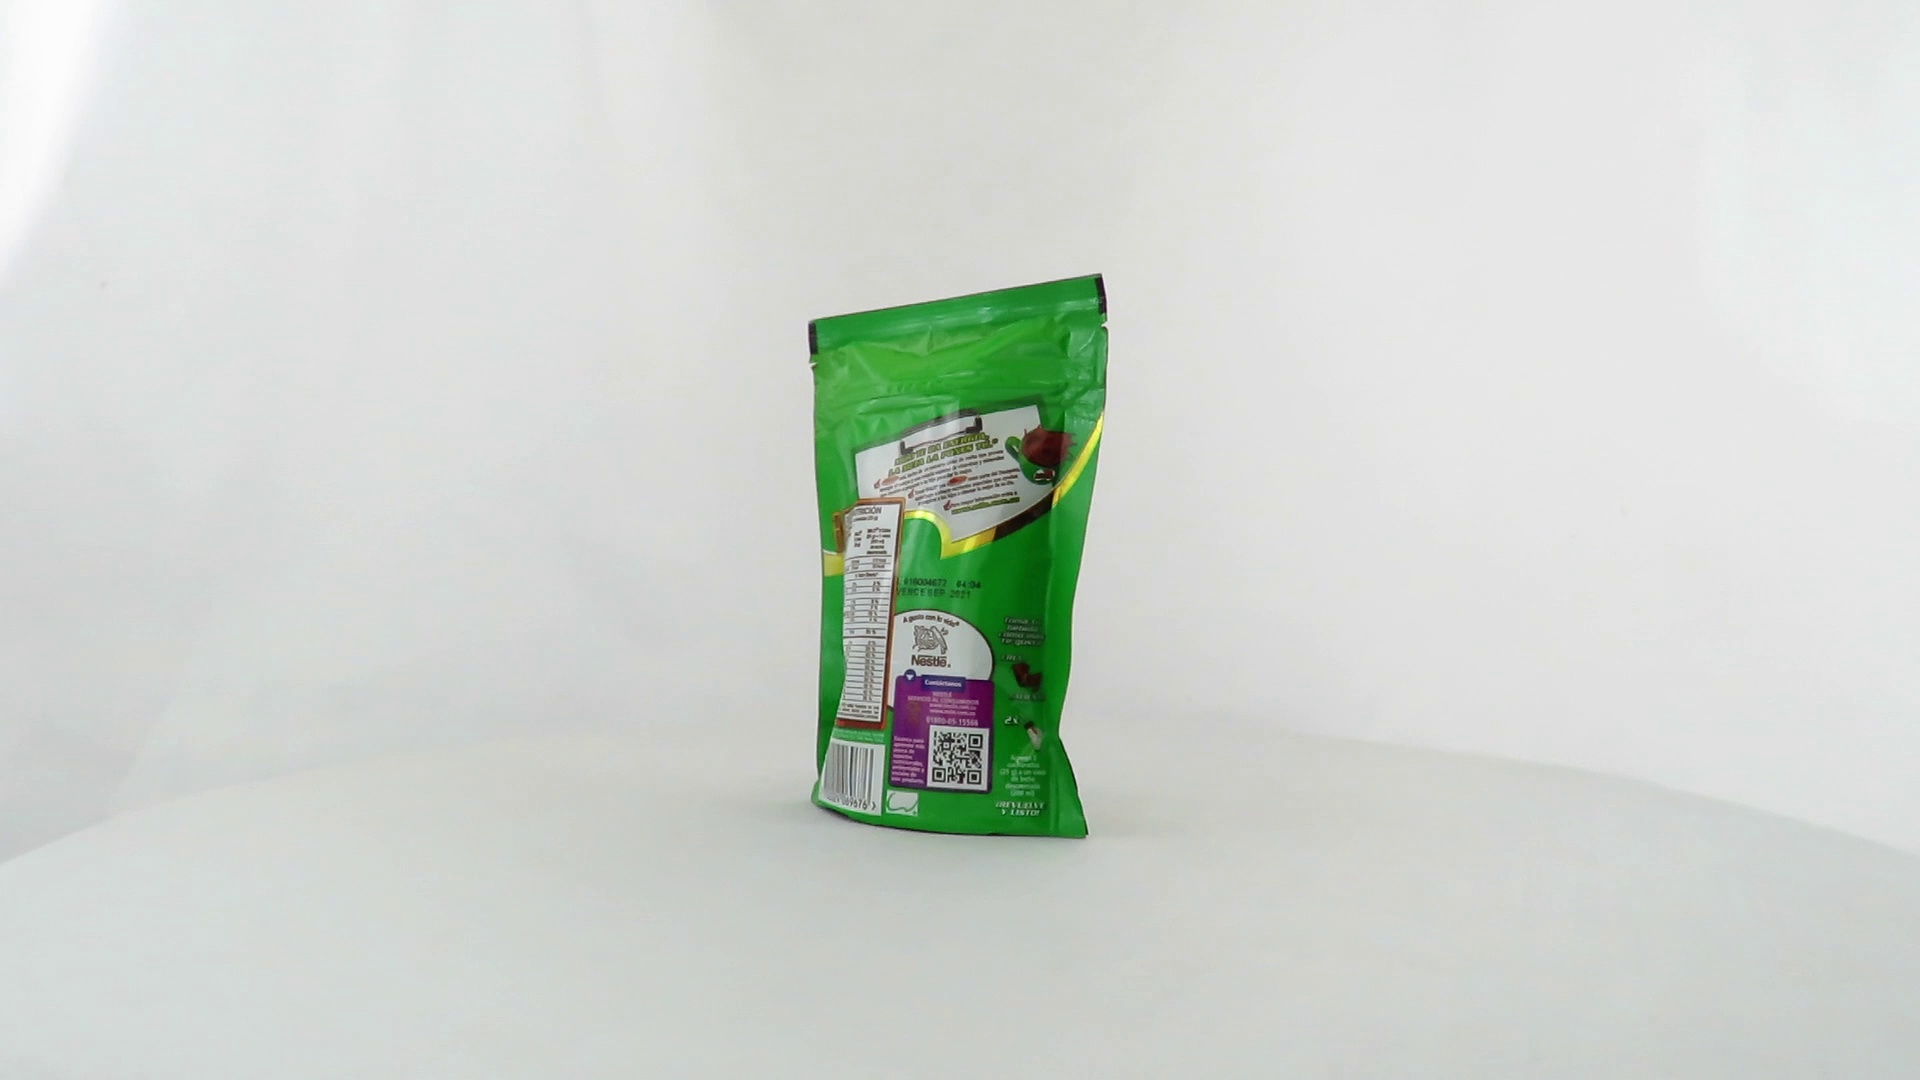COL0170203DYP10000: (803, 268, 1116, 847)
